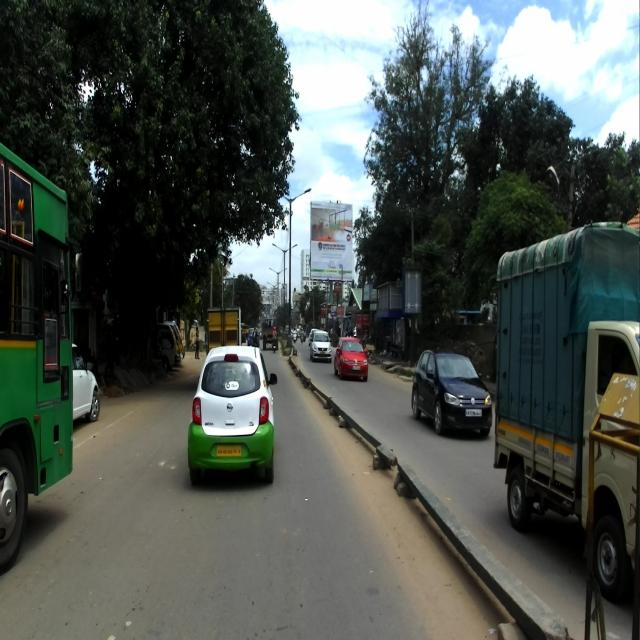car: (186, 344, 276, 483), (411, 345, 493, 437), (58, 336, 107, 432), (333, 328, 379, 381)
truck: (492, 210, 640, 600)
